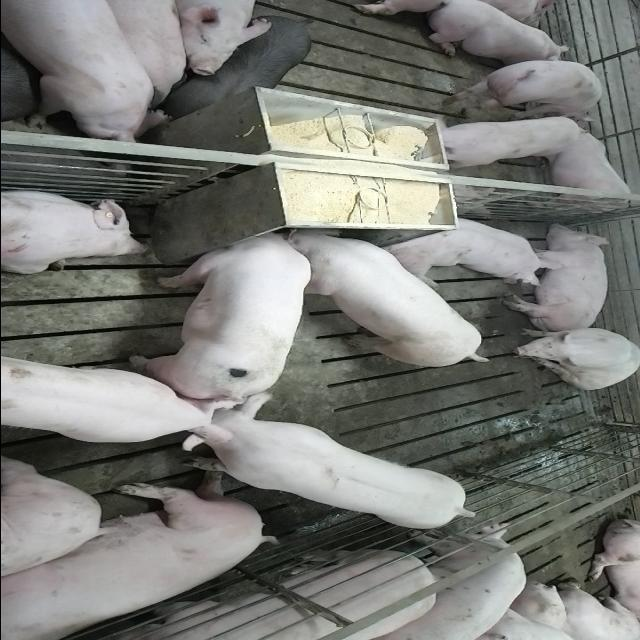Feeding: (127, 221, 311, 396), (282, 229, 498, 372)
Lateral_lying: (0, 473, 275, 637), (500, 224, 613, 332)
Sitting: (403, 118, 590, 174), (503, 326, 638, 390)
Standing: (182, 390, 486, 530), (0, 547, 445, 640), (0, 2, 164, 142), (0, 358, 217, 452), (157, 9, 314, 120), (384, 528, 533, 640), (446, 56, 604, 118)
Sternal_lying: (0, 186, 150, 274), (380, 211, 554, 283), (424, 2, 574, 63)
